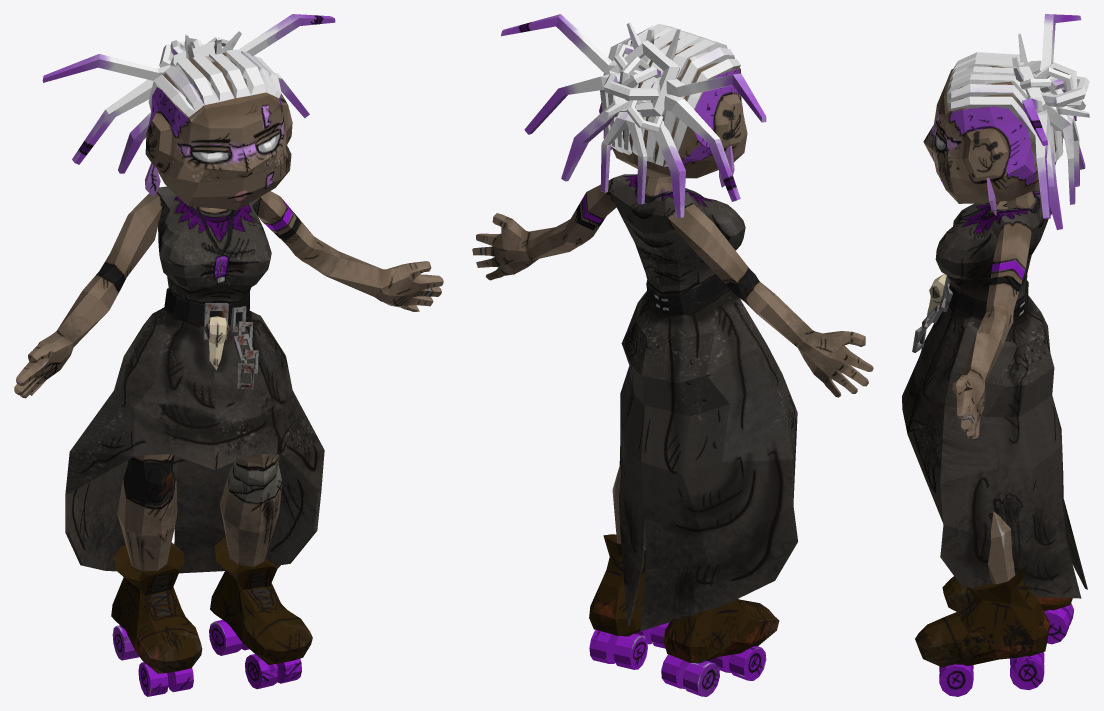
Rendered from bruja_000092.obj.
3 renders of one model, left to right at view 1: azimuth 30°, elevation 25°; view 2: azimuth 150°, elevation 25°; view 3: azimuth 270°, elevation 25°, orthographic. The views are drawn at different scales.
Visible parts, largest first — view 1: Bruja_Plane.001; view 2: Bruja_Plane.001; view 3: Bruja_Plane.001.
Part boxes in pixels (x1=…): Bruja_Plane.001: x1=14, y1=14, x2=443, y2=696; Bruja_Plane.001: x1=472, y1=14, x2=873, y2=696; Bruja_Plane.001: x1=902, y1=14, x2=1089, y2=696.
Size of the model in its own units: 11.03 by 16.48 by 4.47.
